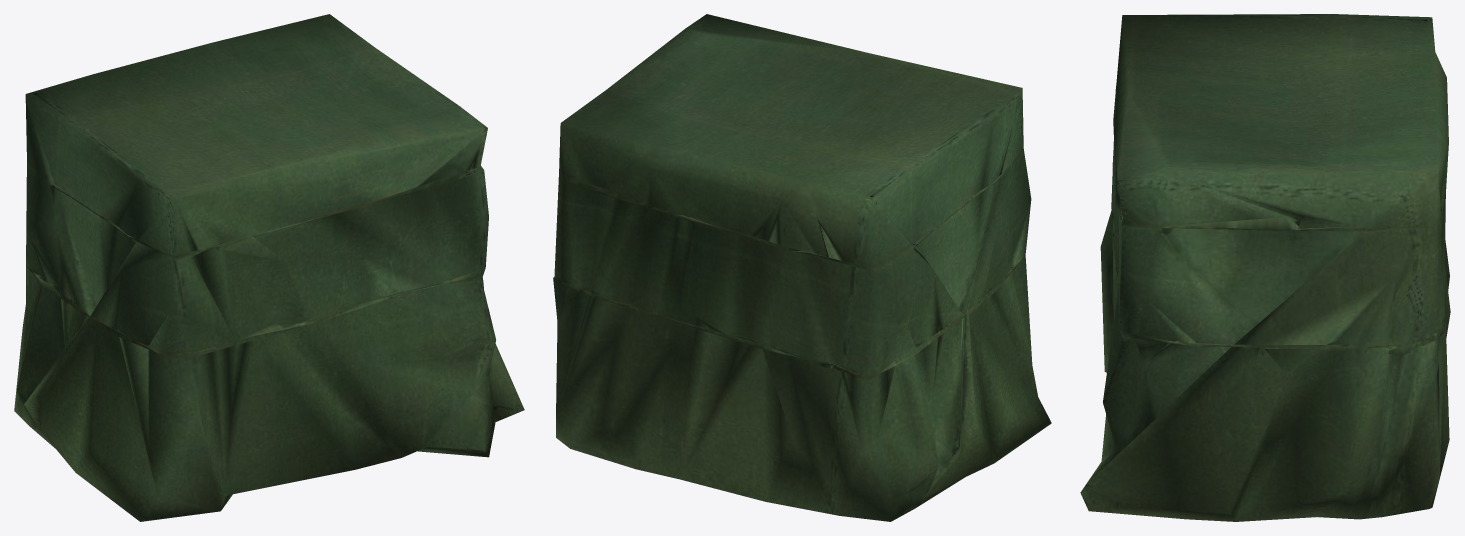
The model's file is BoxCloth.fbx.
The picture shows the model from 3 angles, left to right: view 1: azimuth 30°, elevation 25°; view 2: azimuth 150°, elevation 25°; view 3: azimuth 270°, elevation 25°; orthographic projection. The views are drawn at different scales.
Visible parts, largest first — view 1: Aset_industrial_storage_M_vhtibbe_LOD5.008; view 2: Aset_industrial_storage_M_vhtibbe_LOD5.008; view 3: Aset_industrial_storage_M_vhtibbe_LOD5.008.
Boxes of the visible parts, <box> form: Aset_industrial_storage_M_vhtibbe_LOD5.008: <box>14,14,524,521</box>; Aset_industrial_storage_M_vhtibbe_LOD5.008: <box>553,14,1051,521</box>; Aset_industrial_storage_M_vhtibbe_LOD5.008: <box>1080,14,1450,521</box>.
Bounding box in the file's own units: 2.7 × 2.2 × 2.12.
